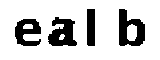a: (44, 13, 77, 52)
b: (111, 7, 151, 52)
e: (14, 16, 43, 51)
l: (79, 5, 102, 50)
